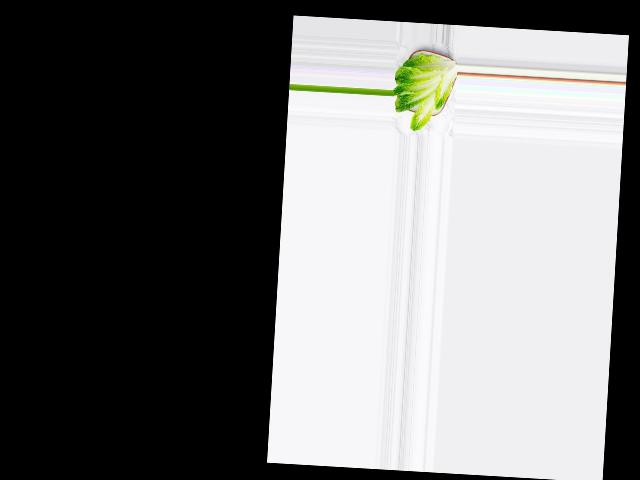lettuce: (389, 47, 456, 134)
